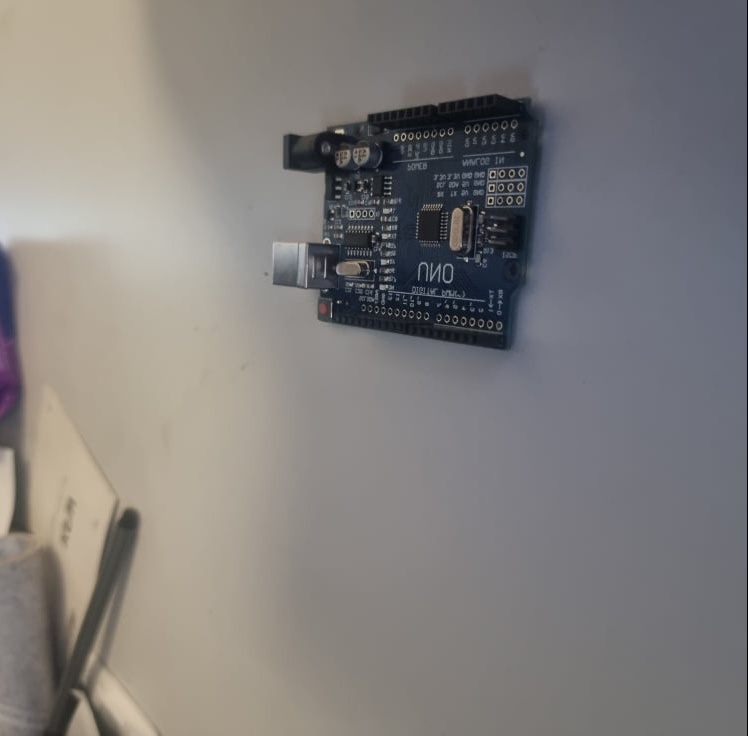UNO R3: (269, 94, 540, 354)
